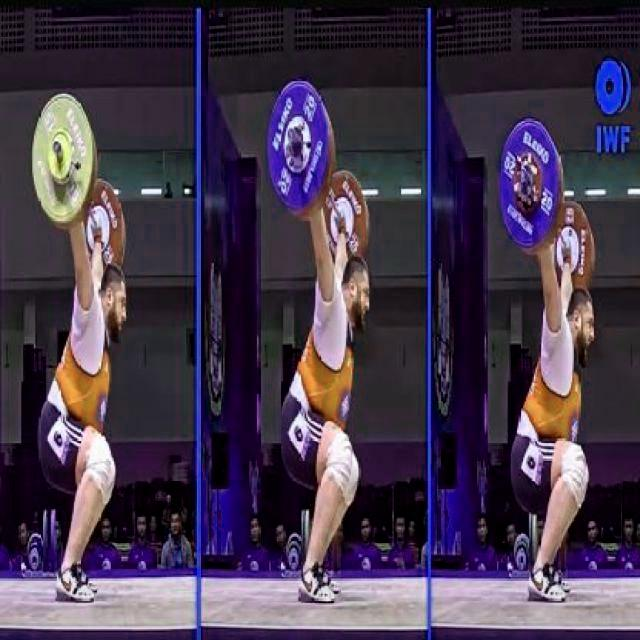barbell: (265, 60, 350, 225), (22, 85, 113, 238), (497, 111, 572, 272)
